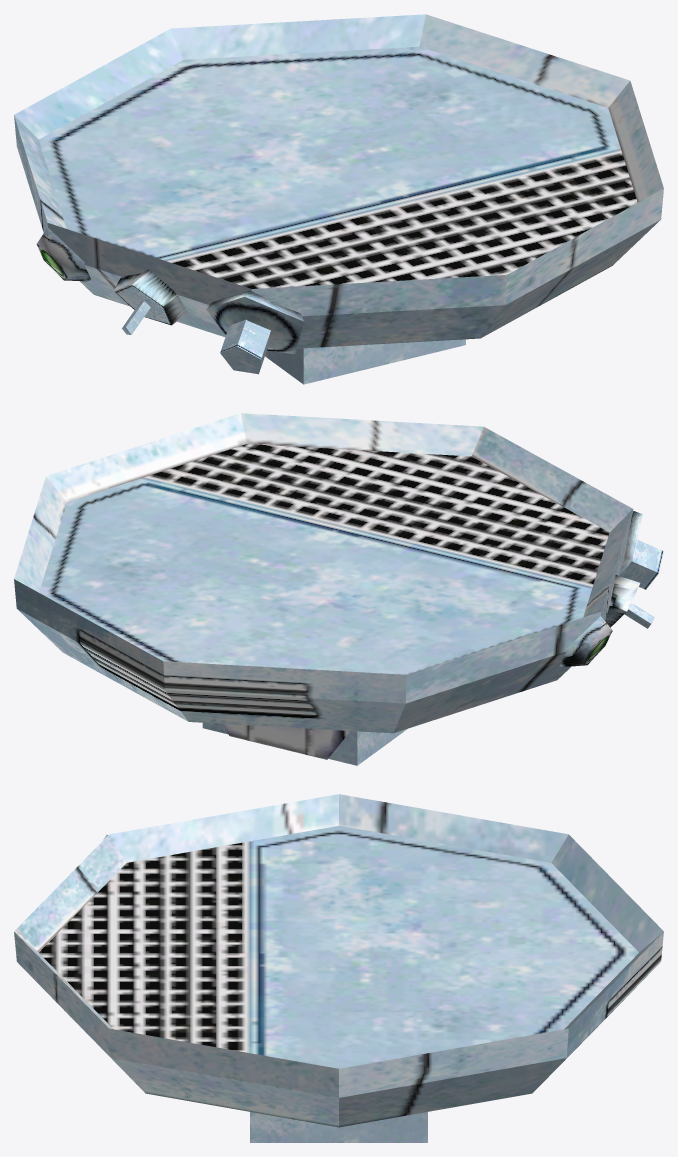
The model's file is eqp_tool_hover_crate_transport_l1.fbx.
3 views of the same model, one above another, from view 1: azimuth 30°, elevation 25°; view 2: azimuth 150°, elevation 25°; view 3: azimuth 270°, elevation 25° (orthographic). The views are drawn at different scales.
Visible parts, largest first — view 1: mesh_node; view 2: mesh_node; view 3: mesh_node.
Part boxes in pixels (x1,y1,x2,y2): mesh_node: (14, 14, 663, 384); mesh_node: (14, 413, 663, 765); mesh_node: (14, 794, 663, 1142).
Size of the model in its own units: 1.21 by 0.3538 by 1.2.
